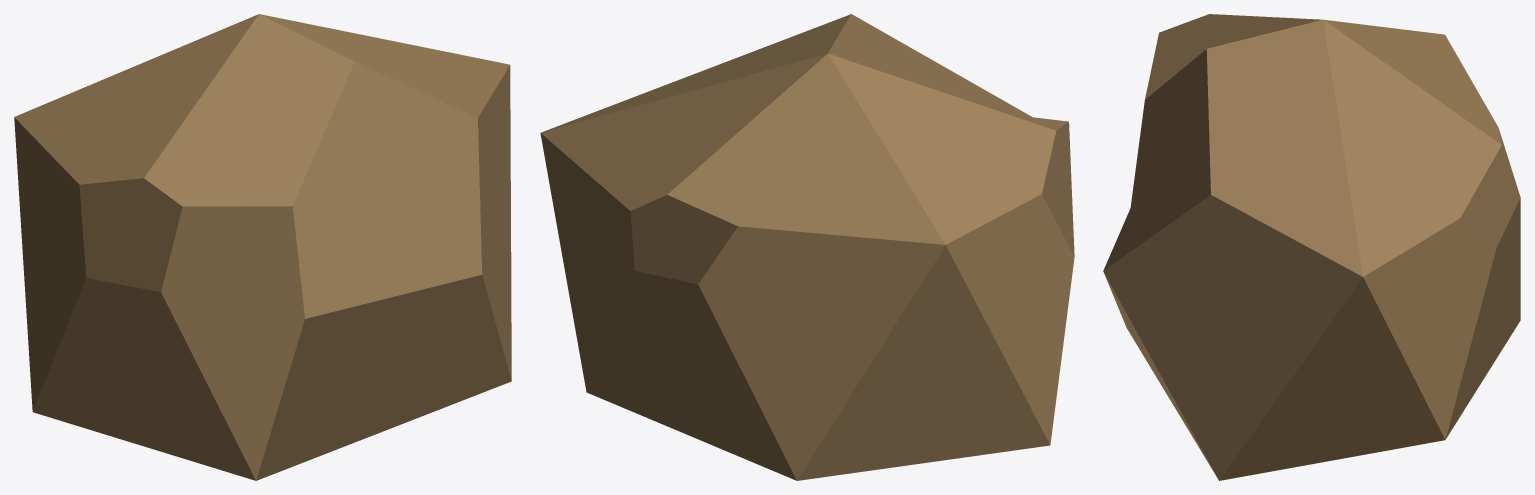
Rendered from Desert_Rock1.fbx.
3 views of the same model, side by side, from view 1: azimuth 30°, elevation 25°; view 2: azimuth 150°, elevation 25°; view 3: azimuth 270°, elevation 25° (orthographic). The views are drawn at different scales.
Visible parts, largest first — view 1: Icosphere; view 2: Icosphere; view 3: Icosphere.
Boxes of the visible parts, x1=… form: Icosphere: x1=14, y1=14, x2=511, y2=480; Icosphere: x1=540, y1=14, x2=1074, y2=480; Icosphere: x1=1103, y1=14, x2=1520, y2=480.
Size of the model in its own units: 270 by 196 by 202.
